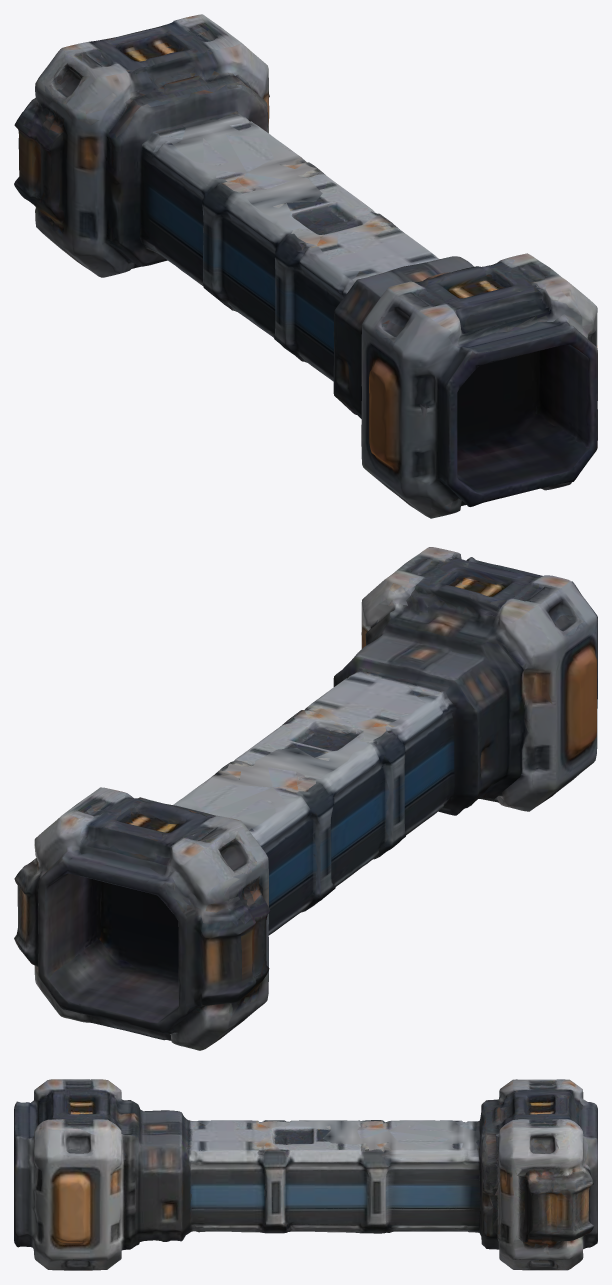
The model's file is scificorridormodule_optimizado.glb.
3 renders of one model, top to bottom at view 1: azimuth 30°, elevation 25°; view 2: azimuth 150°, elevation 25°; view 3: azimuth 270°, elevation 25°, orthographic. The views are drawn at different scales.
Visible parts, largest first — view 1: input; view 2: input; view 3: input.
Boxes of the visible parts, left/top/right/bottom form: input: left=14, top=14, right=597, bottom=518; input: left=14, top=547, right=597, bottom=1050; input: left=14, top=1079, right=597, bottom=1270.
Bounding box in the file's own units: 1.91 × 1.64 × 6.
1 material, 1 textured.
